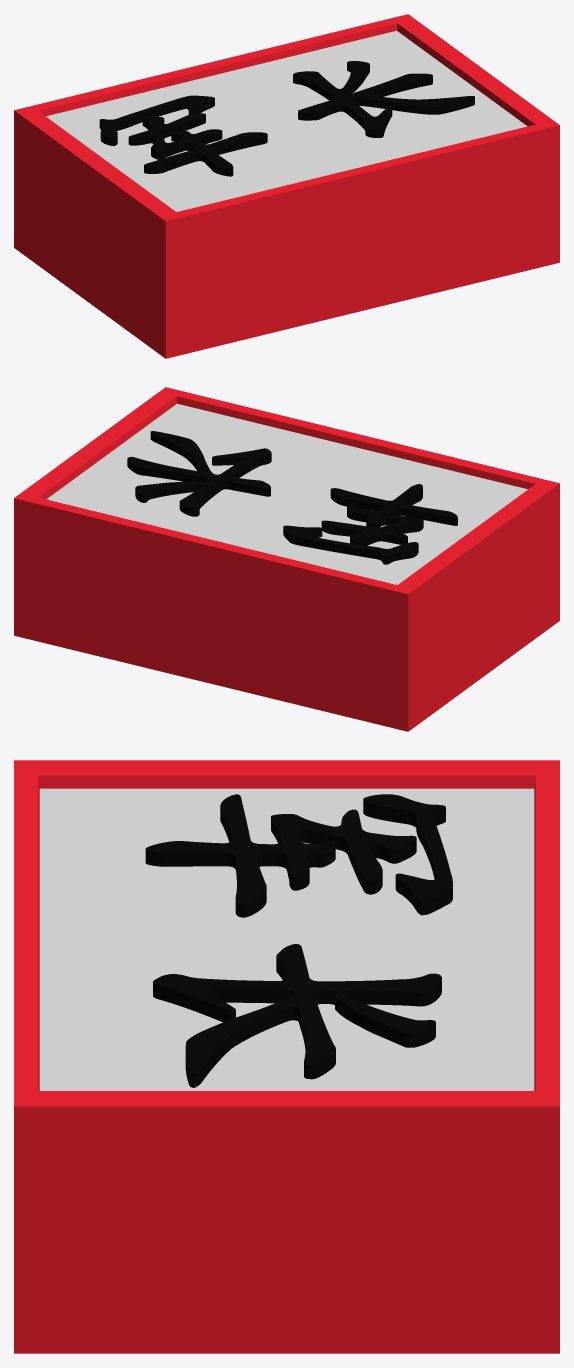
The model's file is 2_jun_zhang.fbx.
The picture shows the model from 3 angles, top to bottom: view 1: azimuth 30°, elevation 25°; view 2: azimuth 150°, elevation 25°; view 3: azimuth 270°, elevation 25°; orthographic projection. The views are drawn at different scales.
Parts seen in each view (by area): view 1: Cube, 文本; view 2: Cube, 文本; view 3: Cube, 文本.
Part boxes in pixels (<box>): Cube: <box>14,14,559,358</box>; 文本: <box>99,61,474,176</box>; Cube: <box>14,387,559,731</box>; 文本: <box>127,431,457,564</box>; Cube: <box>14,760,559,1353</box>; 文本: <box>145,794,452,1087</box>.
Size of the model in its own units: 240 by 80.47 by 160.
